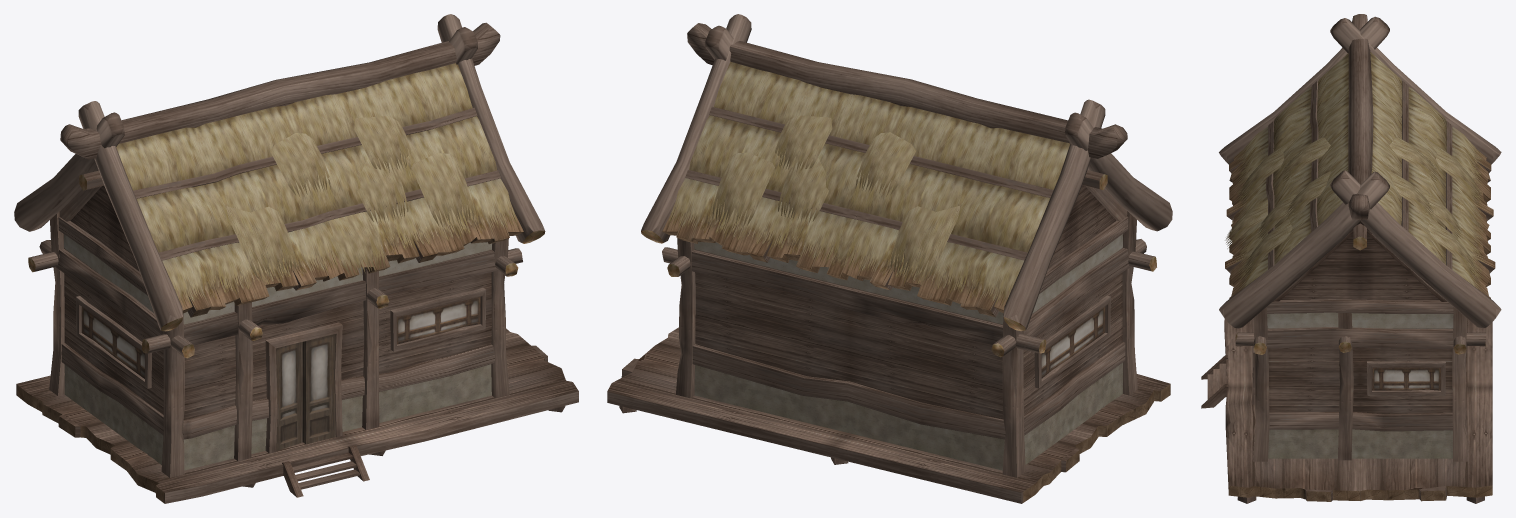
File: handan_field_b_r01.fbx
3 renders of one model, left to right at view 1: azimuth 30°, elevation 25°; view 2: azimuth 150°, elevation 25°; view 3: azimuth 270°, elevation 25°, orthographic. The views are drawn at different scales.
Visible parts, largest first — view 1: handan_field_b_r01; view 2: handan_field_b_r01; view 3: handan_field_b_r01.
Part boxes in pixels (left/top/right/bottom): handan_field_b_r01: left=14, top=14, right=578, bottom=503; handan_field_b_r01: left=607, top=14, right=1172, bottom=503; handan_field_b_r01: left=1201, top=14, right=1501, bottom=503.
Size of the model in its own units: 1052 by 770 by 669.
